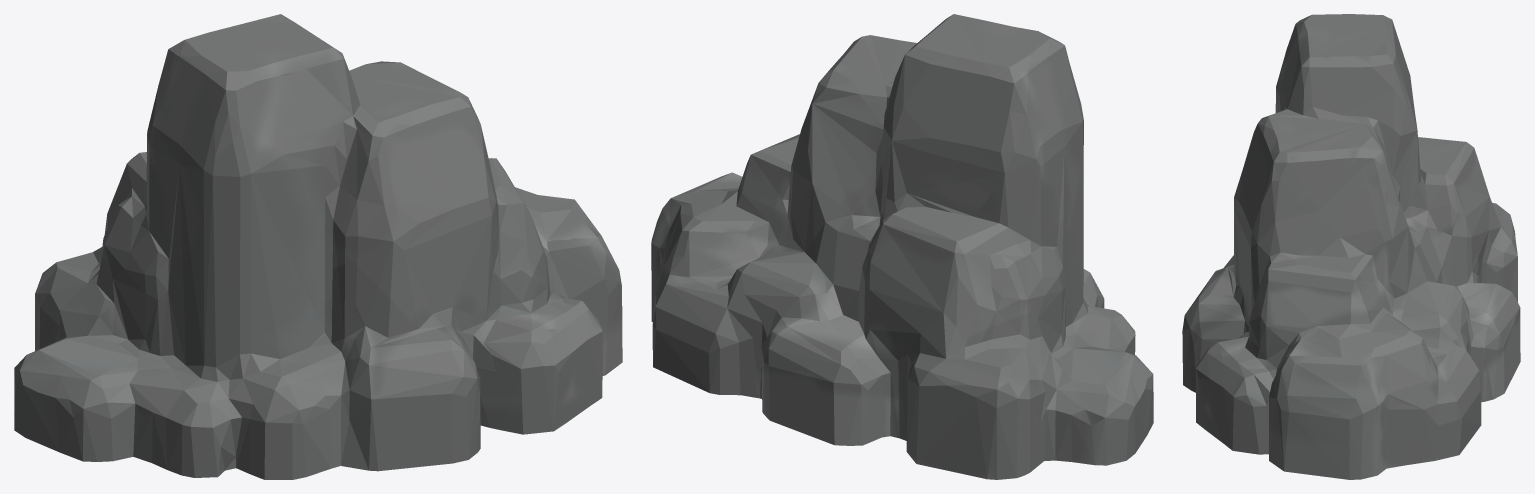
The model's file is rocks.glb.
3 renders of one model, left to right at view 1: azimuth 30°, elevation 25°; view 2: azimuth 150°, elevation 25°; view 3: azimuth 270°, elevation 25°, orthographic. The views are drawn at different scales.
Parts seen in each view (by area): view 1: Rock_1__Rock_1__0; view 2: Rock_1__Rock_1__0; view 3: Rock_1__Rock_1__0.
Boxes of the visible parts, x1,y1,x2,y2 form: Rock_1__Rock_1__0: (14, 14, 622, 479); Rock_1__Rock_1__0: (651, 14, 1153, 479); Rock_1__Rock_1__0: (1182, 14, 1520, 479).
Size of the model in its own units: 2.51 by 1.62 by 1.63.
1 material, 1 textured.
